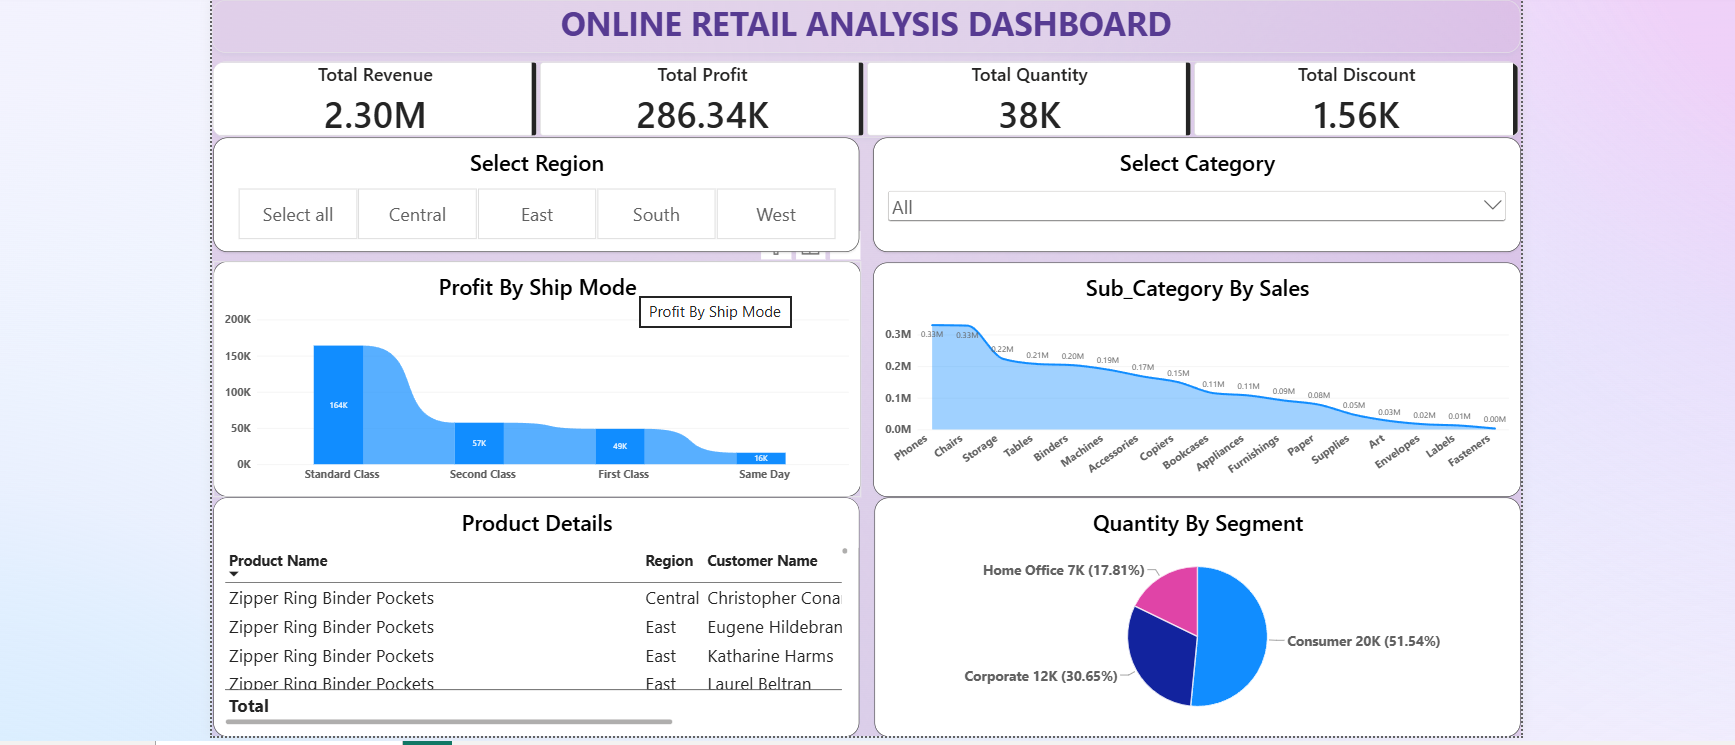

The page's visual inventory and layout, read from the dashboard file:
{"tool":"powerbi","page":{"name":"Online Retail Analysis Report","canvas":[1920,1080],"ordinal":0},"visuals":[{"type":"textbox","box":[0,0,1920.1,77.8],"z":0},{"type":"cardVisual","fields":{"Data":["Sum(Orders.Sales)","Sum(Orders.Profit)","Sum(Orders.Quantity)","Sum(Orders.Discount)"]},"box":[0,89.9,1920.5,111.9],"z":1},{"type":"ribbonChart","title":"Profit By Ship Mode","fields":{"Category":["Orders.Ship Mode"],"Y":["Sum(Orders.Profit)"]},"box":[1.8,383.6,950.1,345.6],"z":2},{"type":"areaChart","title":"Sub_Category By Sales","fields":{"Category":["Orders.Sub-Category"],"Y":["Sum(Orders.Sales)"]},"box":[970,385.5,950.1,343.8],"z":3},{"type":"slicer","title":"Select Region","fields":{"Values":["Orders.Region"]},"box":[1.8,202.7,948.3,168.3],"z":4},{"type":"slicer","title":"Select Category","fields":{"Values":["Orders.Sub-Category"]},"box":[970,202.7,950.1,168.3],"z":5},{"type":"tableEx","title":"Product Details","fields":{"Values":["Orders.Product Name","Orders.Region","Orders.Customer Name","Sum(Orders.Sales)","Sum(Orders.Profit)"]},"box":[1.8,729.3,948.3,351.1],"z":6},{"type":"pieChart","title":"Quantity By Segment","fields":{"Category":["Orders.Segment"],"Y":["Sum(Orders.Quantity)"]},"box":[971.8,729.3,948.3,351.1],"z":7}]}

Visuals, with their boxes in screenshot pixels (x1, y1, x2, y2):
textbox: locate(208, 0, 1515, 48)
cardVisual - Sum(Orders.Sales) x Sum(Orders.Profit): locate(208, 57, 1515, 133)
"Profit By Ship Mode" ribbonChart: locate(209, 257, 856, 492)
"Sub_Category By Sales" areaChart: locate(868, 258, 1515, 492)
"Select Region" slicer: locate(209, 133, 855, 248)
"Select Category" slicer: locate(868, 133, 1515, 248)
"Product Details" tableEx: locate(209, 492, 855, 731)
"Quantity By Segment" pieChart: locate(869, 492, 1515, 731)
